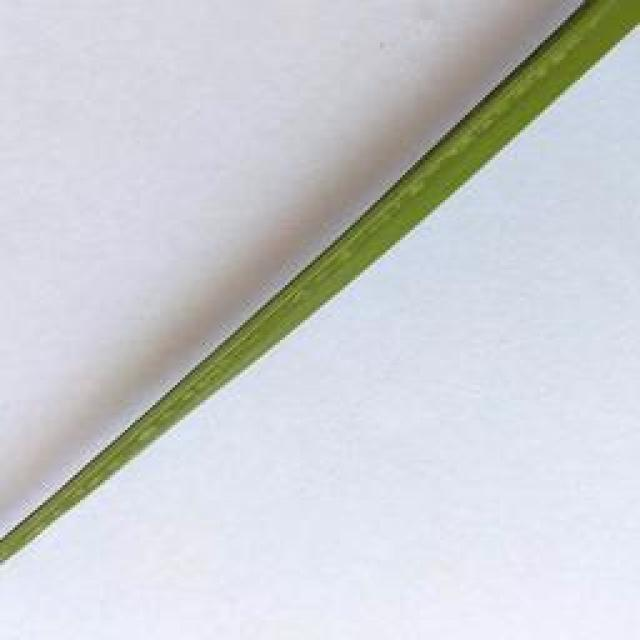Healthy-Plant: (0, 1, 640, 562)
